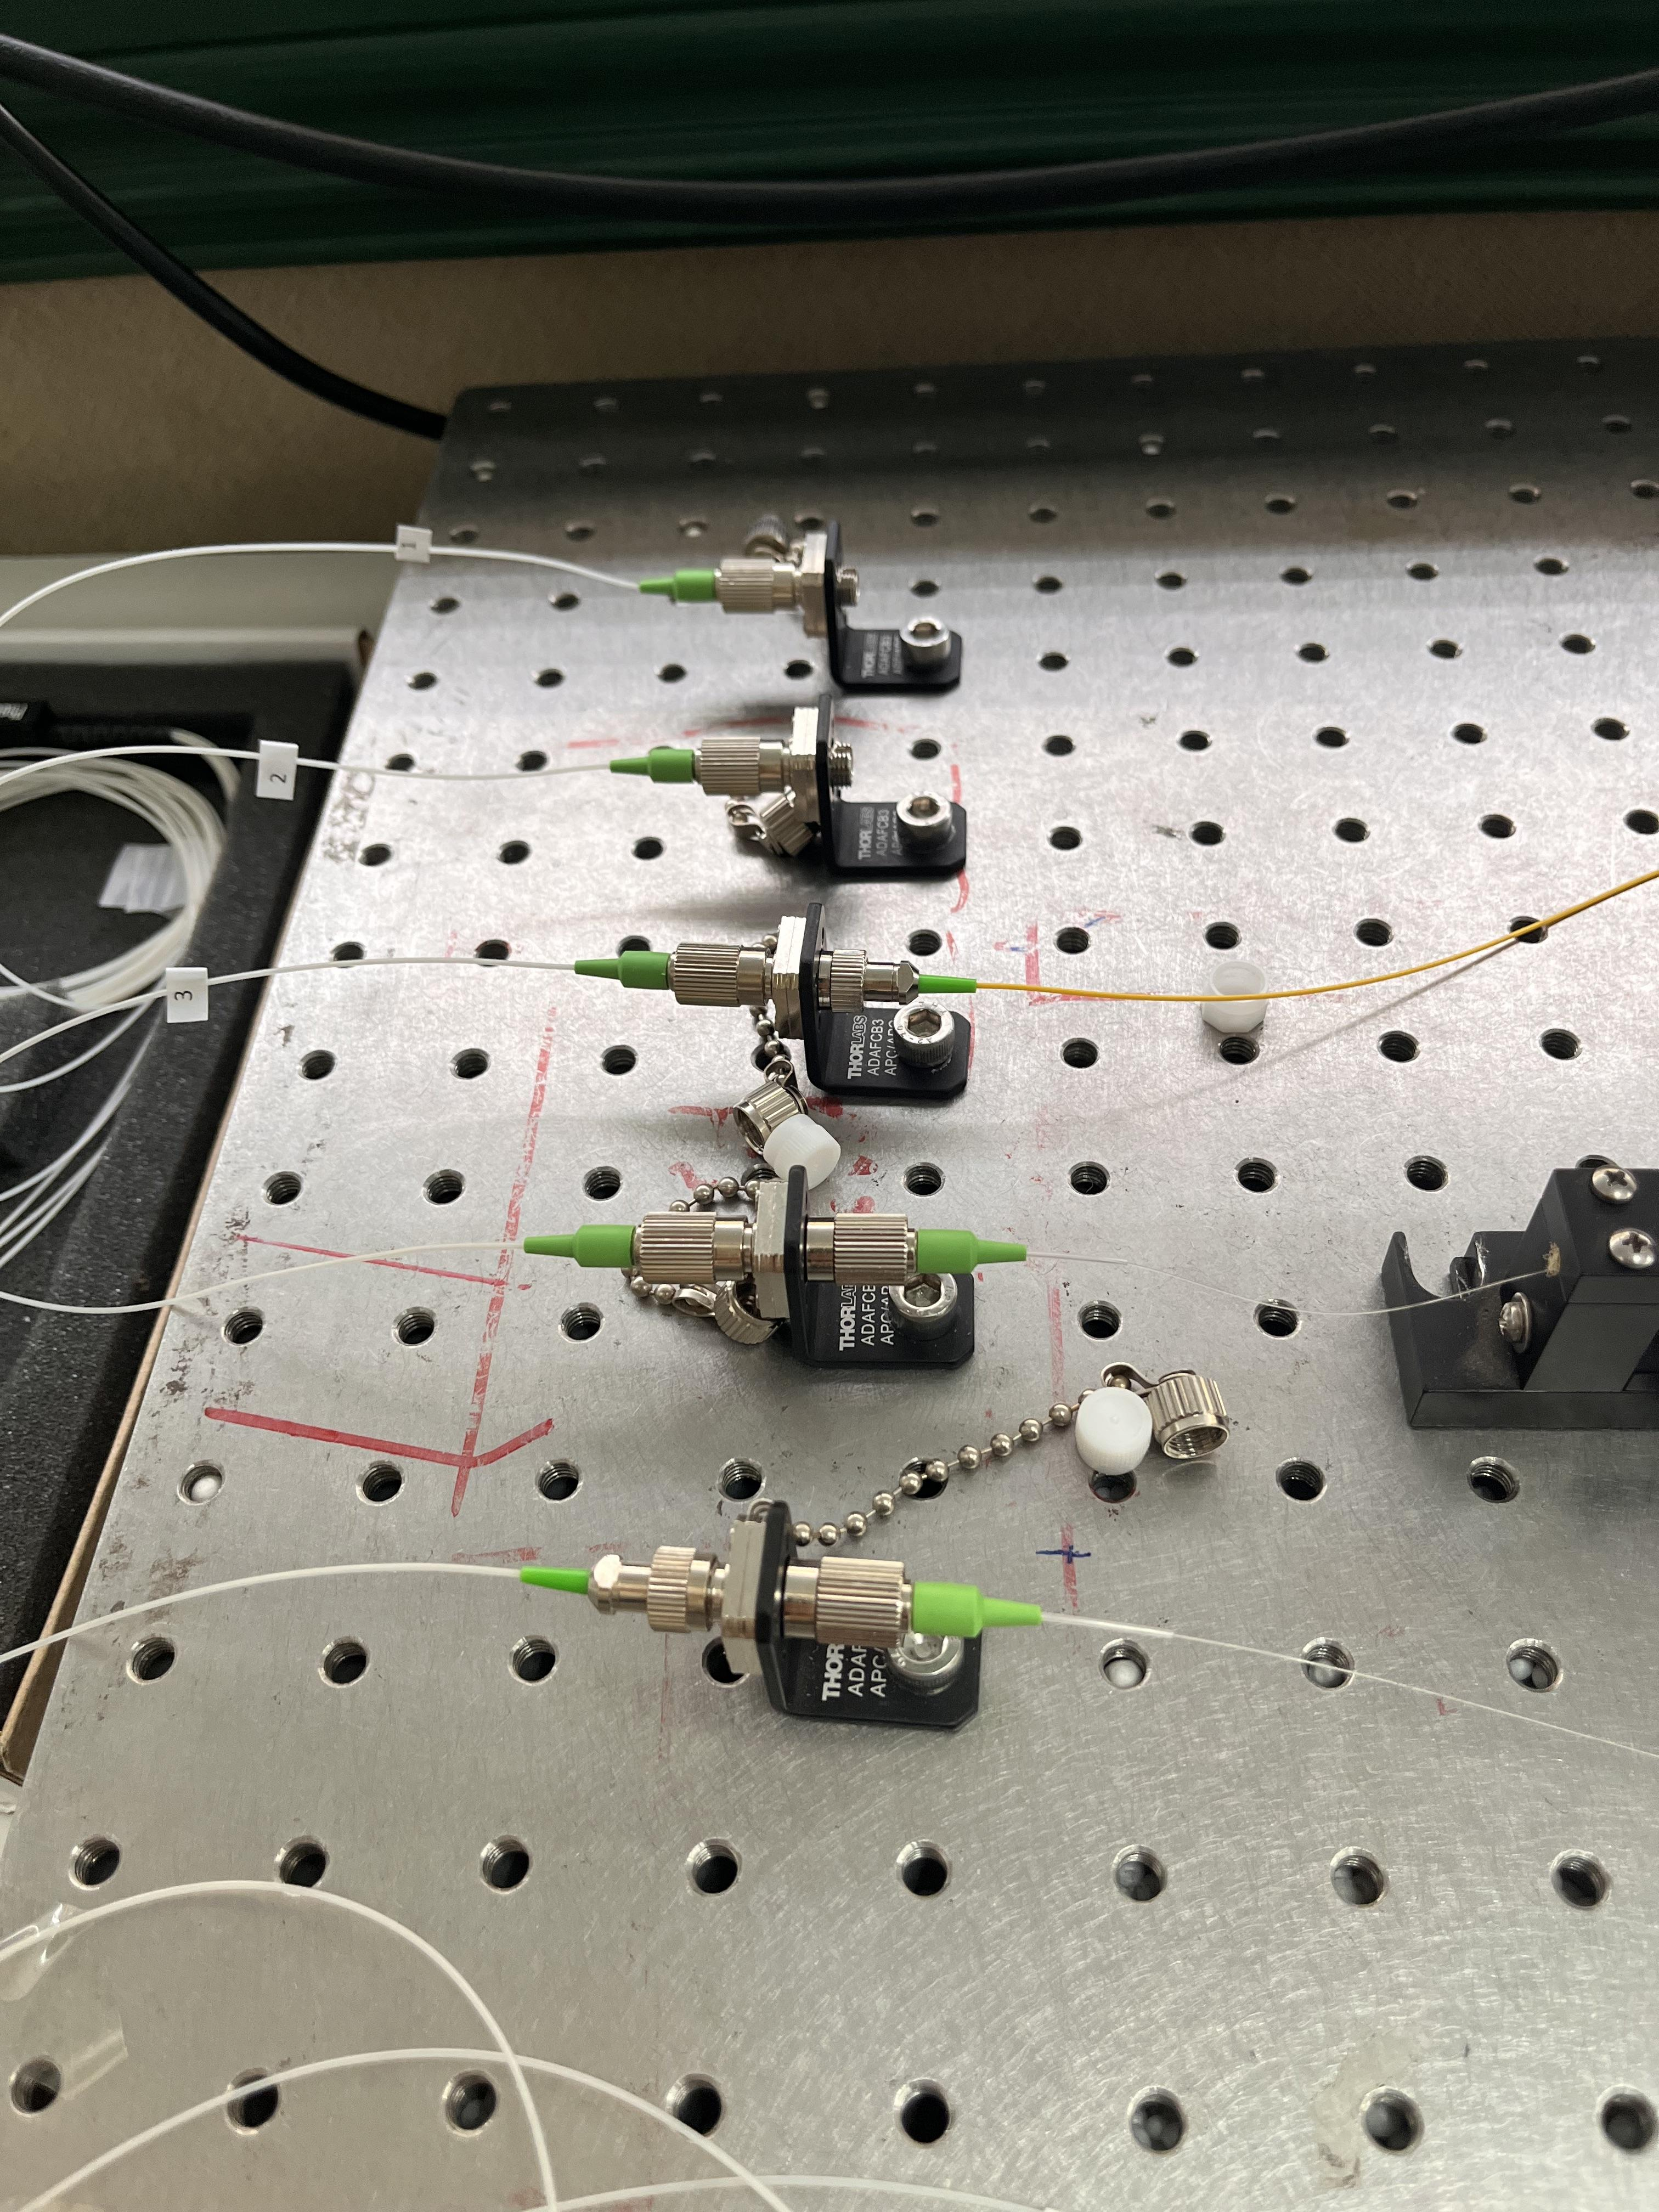paddle_polarization_controller: (1385, 1144, 1659, 1456)
